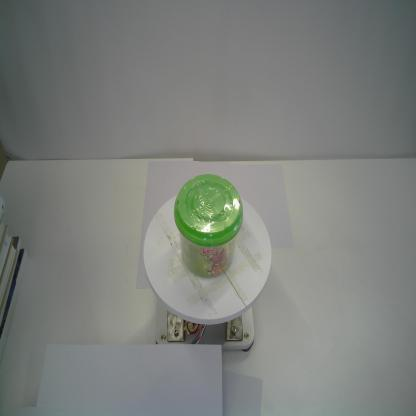Instant Drink: (174, 174, 244, 280)
